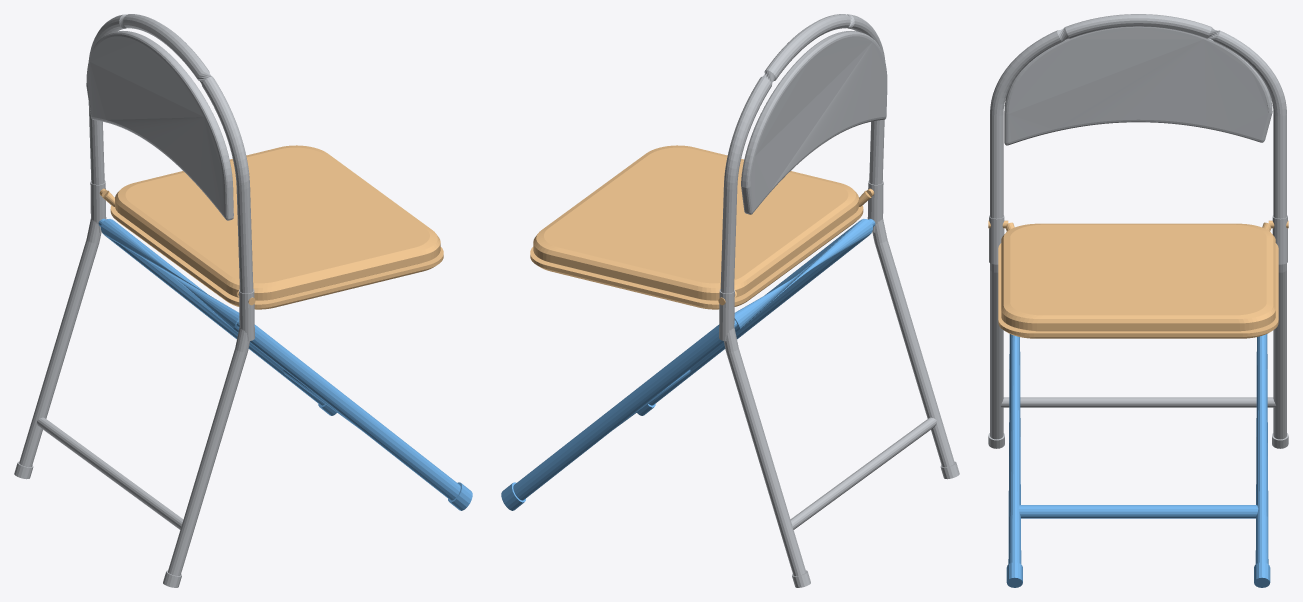
Rendered from parts.glb.
3 views of the same model, side by side, from view 1: azimuth 30°, elevation 25°; view 2: azimuth 150°, elevation 25°; view 3: azimuth 270°, elevation 25° (orthographic). The views are drawn at different scales.
Visible parts, largest first — view 1: visual_2_0, visual_0_0, visual_1_0; view 2: visual_2_0, visual_0_0, visual_1_0; view 3: visual_0_0, visual_2_0, visual_1_0.
Part boxes in pixels (x1,y1,x2,y2): visual_2_0: [99, 145, 443, 309]; visual_0_0: [14, 14, 254, 587]; visual_1_0: [98, 218, 472, 510]; visual_2_0: [530, 145, 874, 309]; visual_0_0: [719, 14, 959, 587]; visual_1_0: [501, 218, 875, 510]; visual_0_0: [988, 14, 1288, 448]; visual_2_0: [988, 220, 1288, 338]; visual_1_0: [1006, 334, 1270, 587].
Size of the model in its own units: 0.539 by 0.7964 by 0.464.
